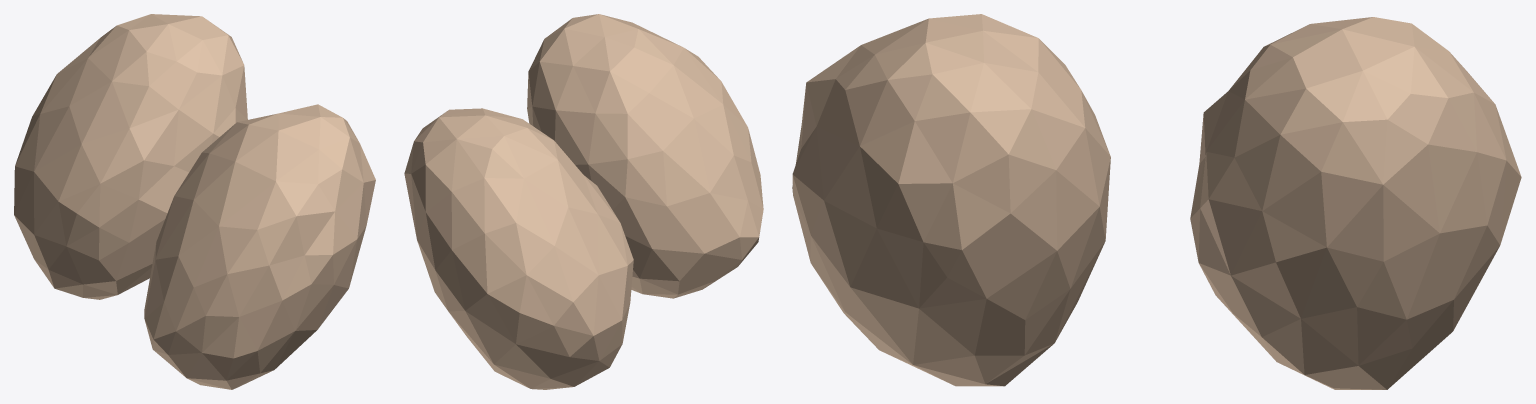
3 renders of one model, left to right at view 1: azimuth 30°, elevation 25°; view 2: azimuth 150°, elevation 25°; view 3: azimuth 270°, elevation 25°, orthographic. The views are drawn at different scales.
Parts seen in each view (by area): view 1: 880.obj; view 2: 880.obj; view 3: 880.obj.
Part boxes in pixels (left/top/right/bottom): 880.obj: left=14, top=14, right=375, bottom=389; 880.obj: left=404, top=14, right=763, bottom=389; 880.obj: left=792, top=14, right=1521, bottom=389.
Size of the model in its own units: 413 by 471 by 772.
